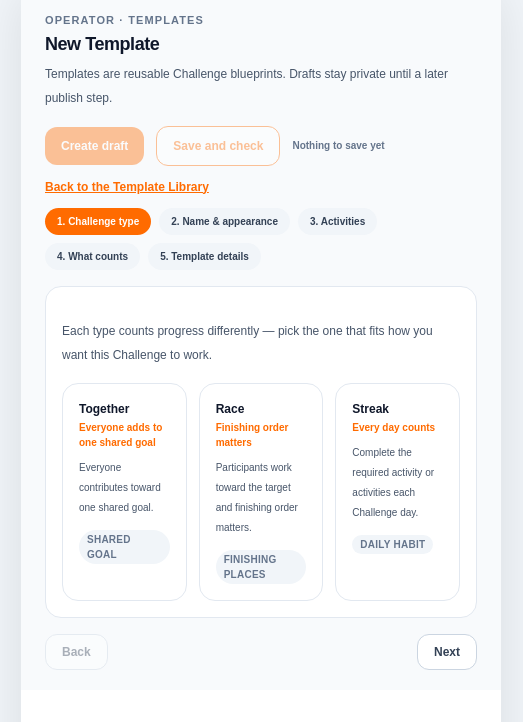
Scenario: Save and check › after creating a new draft, checks it once the first revision token is read back
Expected: the navigation bar named "Editor steps" is shown, [45,208,377,270]
Click the button "Race" at (261, 492), box [199,382,323,600]
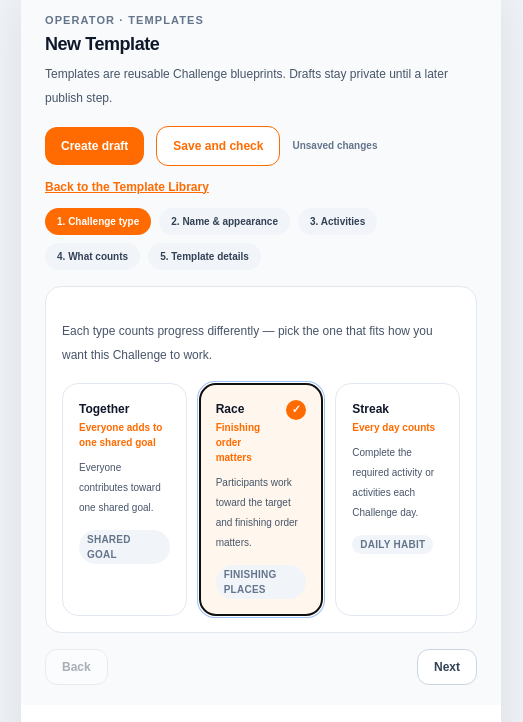
Click the button "2. Name & appearance" at (225, 221), box [159,208,290,234]
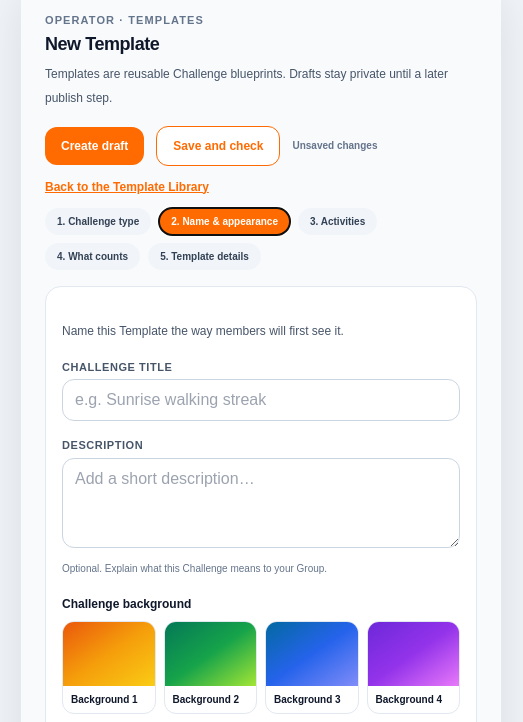
Type "T" into the field labelled "Challenge title" at (261, 400), box [62,379,460,421]
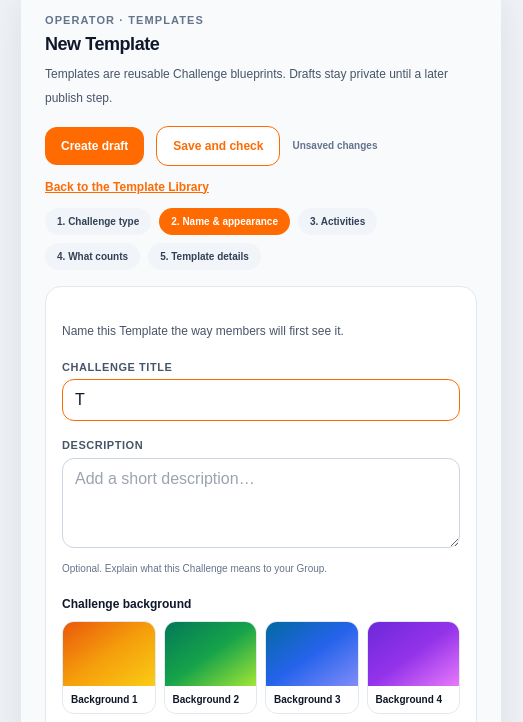
Click the button "Save and check" at (218, 146), box [156,126,280,166]
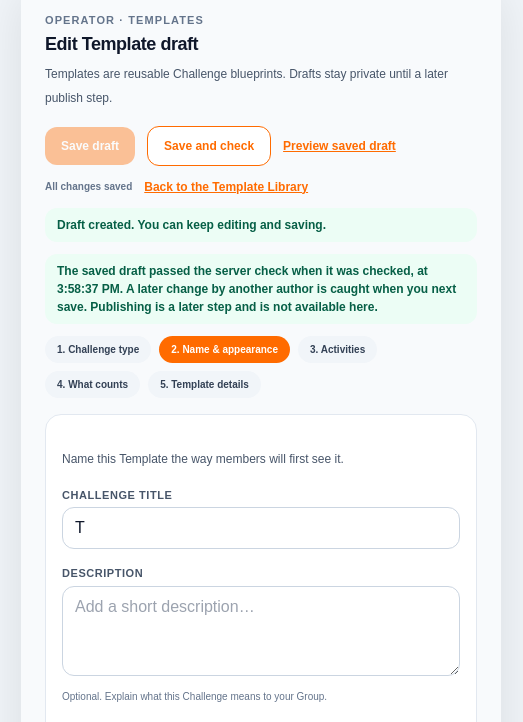
Expected: the text "passed the server check" is shown, [57,264,428,278]
